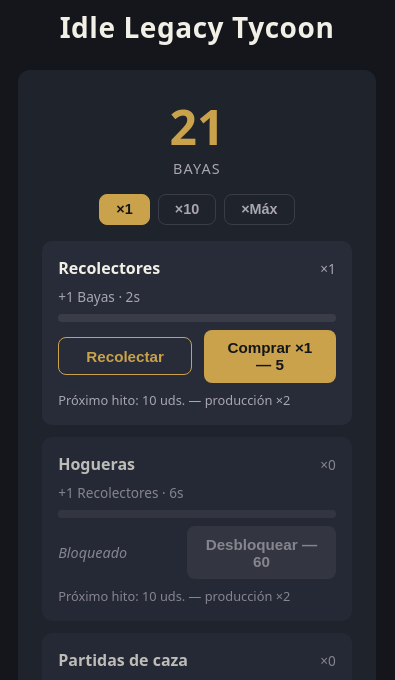
Scenario: App › compra ×máx: compra todas las unidades que alcancen los fondos
Click the button "×Máx".
click(259, 209)  # box [224,194,295,225]
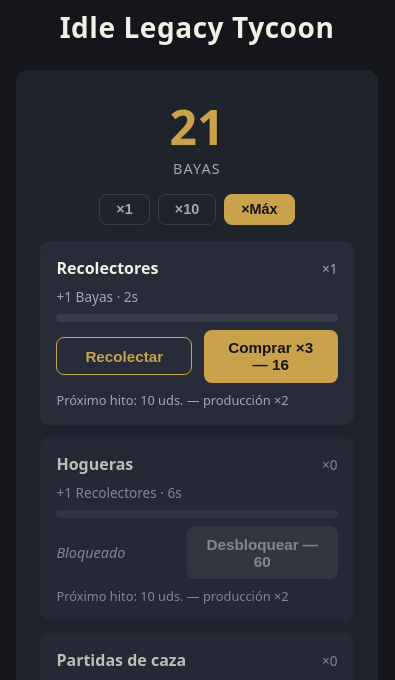
Click the button with aria-label "Comprar Recolectores".
click(271, 356)  # box [204,330,338,383]
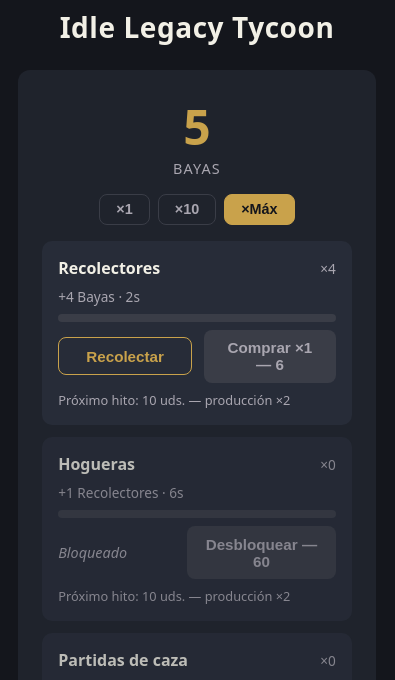
Expected: the text "×4" is shown, [320,259,336,278]
Expected: the text named "Bayas" reads "5", [183,94,211,159]
